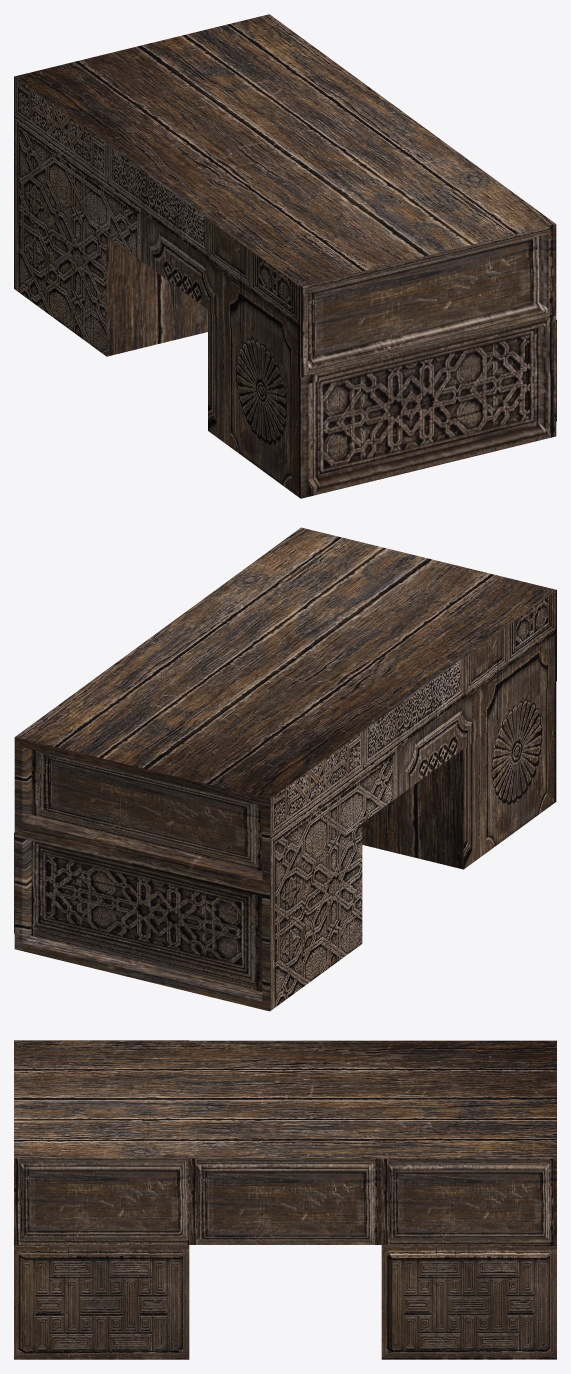
The model's file is 화장대.fbx.
The picture shows the model from 3 angles, top to bottom: view 1: azimuth 30°, elevation 25°; view 2: azimuth 150°, elevation 25°; view 3: azimuth 270°, elevation 25°; orthographic projection. The views are drawn at different scales.
Parts seen in each view (by area): view 1: Box042; view 2: Box042; view 3: Box042.
Boxes of the visible parts, x1,y1,x2,y2 form: Box042: (14, 14, 556, 498); Box042: (14, 527, 556, 1011); Box042: (14, 1040, 556, 1359).
Size of the model in its own units: 62.65 by 48.42 by 119.
